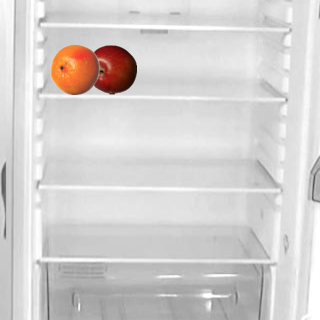Apple Braeburn: (86, 44, 136, 94)
Grapefruit Pink: (49, 44, 99, 94)
